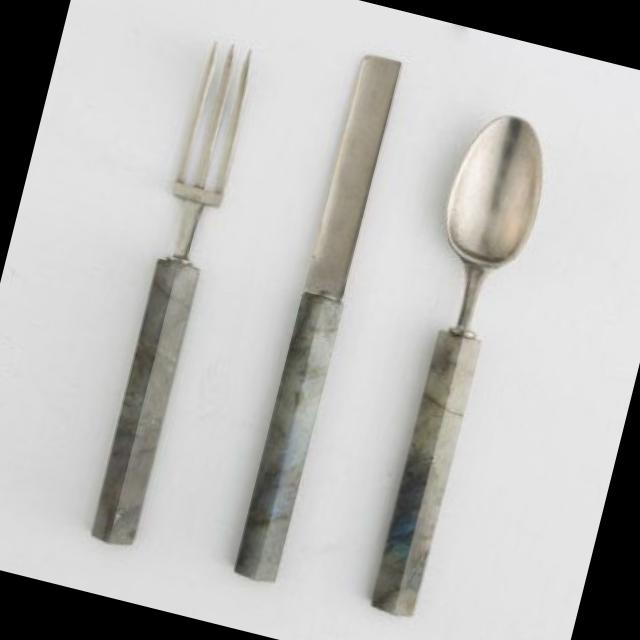fork: (58, 21, 289, 564)
spoon: (338, 98, 577, 638)
